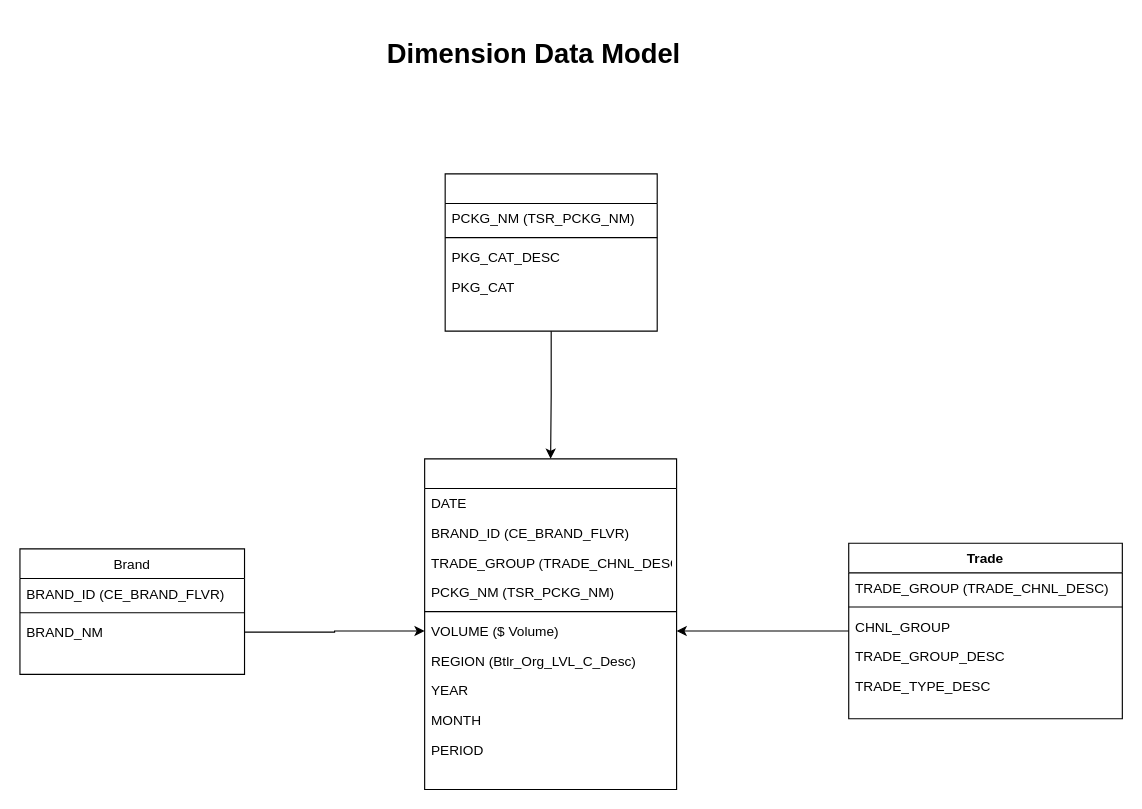
Some shapes in this 1142 by 809 pixel diagram are drawn without their labels. Each missing label, with the box of its shape:
Package: (444, 173, 657, 331)
Sales: (424, 458, 677, 789)
